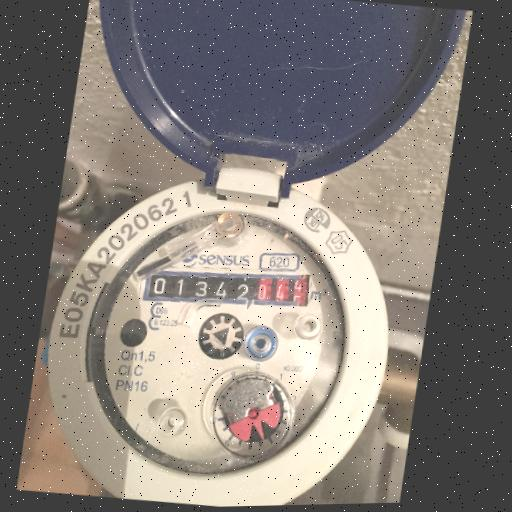0: (149, 273, 170, 298), (254, 277, 272, 302)
1: (169, 275, 189, 300)
2: (232, 276, 254, 303)
3: (192, 275, 212, 300)
4: (288, 273, 310, 307), (212, 275, 232, 300), (272, 277, 290, 302)
border_water_meter_number: (138, 253, 316, 320)
